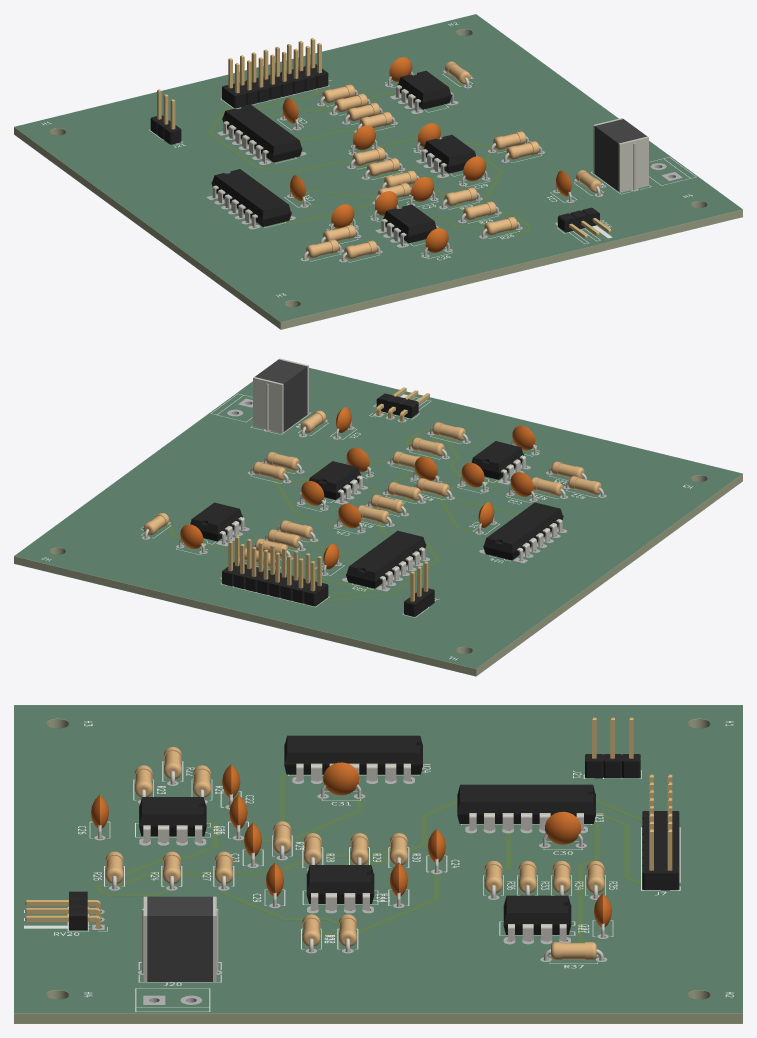
File: vinyl_adc_channel_l.glb
3 renders of one model, top to bottom at view 1: azimuth 30°, elevation 25°; view 2: azimuth 150°, elevation 25°; view 3: azimuth 270°, elevation 25°, orthographic. The views are drawn at different scales.
Visible parts, largest first — view 1: =>[0:1:1:21], =>[0:1:1:23], =>[0:1:1:9] (×2), =>[0:1:1:7] (×3), =>[0:1:1:13], =>[0:1:1:11], =>[0:1:1:19], =>[0:1:1:20], =>[0:1:1:18], =>[0:1:1:17], =>[0:1:1:15], =>[0:1:1:22]; view 2: =>[0:1:1:21], =>[0:1:1:23], =>[0:1:1:9] (×2), =>[0:1:1:13], =>[0:1:1:7] (×3), =>[0:1:1:11], =>[0:1:1:19], =>[0:1:1:20], =>[0:1:1:18], =>[0:1:1:15], =>[0:1:1:17], =>[0:1:1:22]; view 3: =>[0:1:1:21], =>[0:1:1:23], =>[0:1:1:9] (×2), =>[0:1:1:3] (×17), =>[0:1:1:7] (×3), =>[0:1:1:11], =>[0:1:1:20], =>[0:1:1:18], =>[0:1:1:13], =>[0:1:1:19], =>[0:1:1:5] (×2), =>[0:1:1:17] (+2 smaller).
Boxes of the visible parts, x1,y1,x2,y2 form: =>[0:1:1:21]: [14, 14, 742, 321]; =>[0:1:1:23]: [14, 15, 742, 329]; =>[0:1:1:9] (×2): [211, 104, 302, 227]; =>[0:1:1:7] (×3): [381, 70, 477, 246]; =>[0:1:1:13]: [222, 38, 328, 108]; =>[0:1:1:11]: [593, 118, 648, 192]; =>[0:1:1:19]: [206, 70, 682, 262]; =>[0:1:1:20]: [41, 22, 696, 297]; =>[0:1:1:18]: [208, 83, 531, 233]; =>[0:1:1:17]: [150, 89, 181, 144]; =>[0:1:1:15]: [557, 207, 611, 238]; =>[0:1:1:22]: [15, 135, 742, 329]; =>[0:1:1:21]: [14, 367, 742, 668]; =>[0:1:1:23]: [14, 368, 742, 676]; =>[0:1:1:9] (×2): [346, 502, 563, 589]; =>[0:1:1:13]: [222, 536, 328, 606]; =>[0:1:1:7] (×3): [189, 441, 525, 544]; =>[0:1:1:11]: [253, 358, 308, 432]; =>[0:1:1:19]: [142, 398, 606, 591]; =>[0:1:1:20]: [42, 393, 692, 660]; =>[0:1:1:18]: [166, 428, 517, 601]; =>[0:1:1:15]: [376, 387, 429, 421]; =>[0:1:1:17]: [404, 561, 434, 616]; =>[0:1:1:22]: [14, 481, 742, 676]; =>[0:1:1:21]: [14, 705, 742, 1013]; =>[0:1:1:23]: [14, 706, 742, 1023]; =>[0:1:1:9] (×2): [284, 735, 595, 830]; =>[0:1:1:3] (×17): [105, 746, 604, 960]; =>[0:1:1:7] (×3): [139, 797, 571, 941]; =>[0:1:1:11]: [142, 896, 218, 981]; =>[0:1:1:20]: [24, 721, 733, 1011]; =>[0:1:1:18]: [97, 774, 641, 958]; =>[0:1:1:13]: [642, 774, 679, 890]; =>[0:1:1:19]: [92, 777, 608, 1004]; =>[0:1:1:5] (×2): [321, 762, 582, 846]; =>[0:1:1:17]: [585, 717, 640, 778].
Size of the model in its own units: 0.1 by 0.0133 by 0.1.
